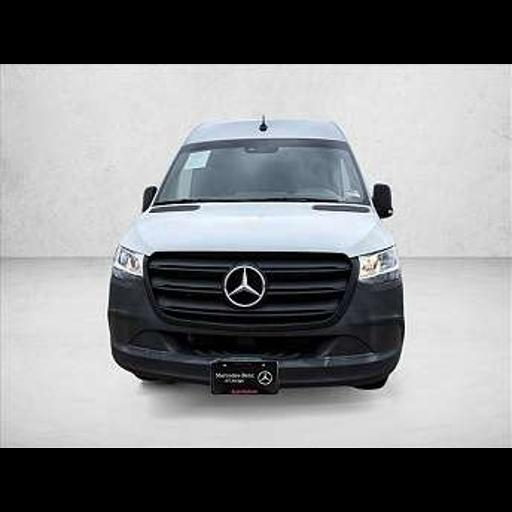van: (108, 121, 403, 391)
